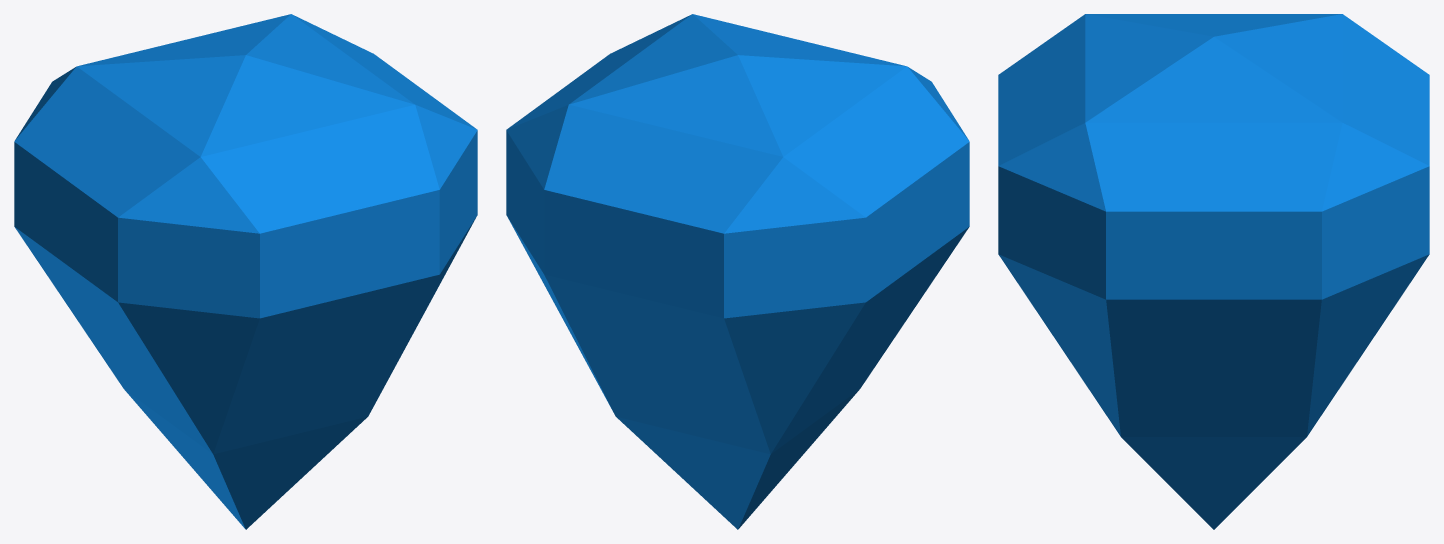
Rendered from Treasure1.fbx.
3 renders of one model, left to right at view 1: azimuth 30°, elevation 25°; view 2: azimuth 150°, elevation 25°; view 3: azimuth 270°, elevation 25°, orthographic. The views are drawn at different scales.
Parts seen in each view (by area): view 1: Куб; view 2: Куб; view 3: Куб.
Boxes of the visible parts, x1,y1,x2,y2 form: Куб: (14,14,477,529); Куб: (506,14,969,529); Куб: (998,14,1429,529).
Size of the model in its own units: 200 by 252 by 200.
